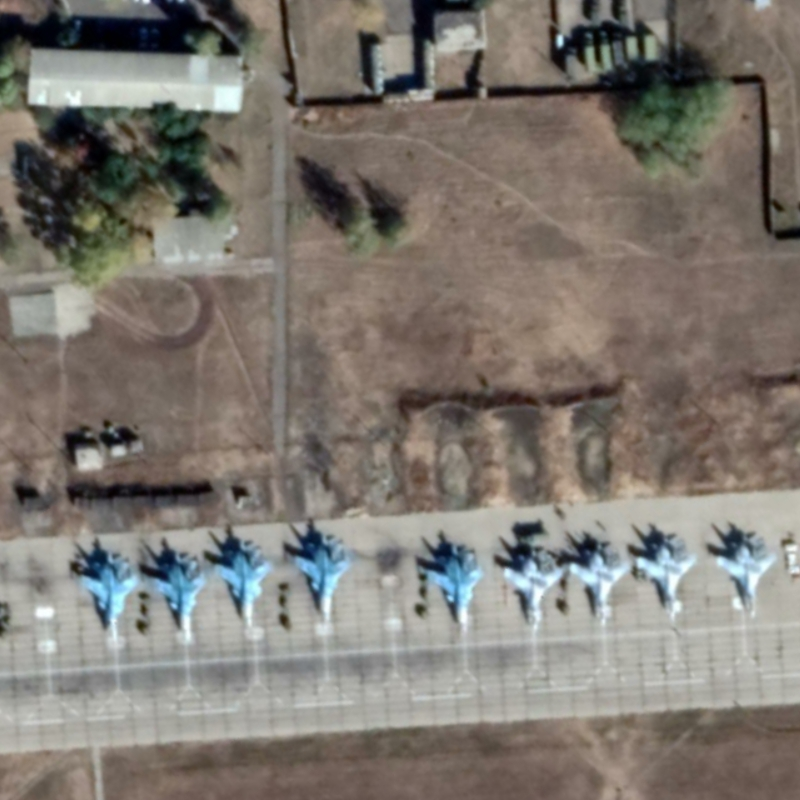A1: (707, 528, 779, 621), (631, 534, 702, 627), (501, 538, 568, 633), (569, 536, 636, 628)
A19: (413, 541, 490, 634), (73, 545, 141, 650), (146, 546, 209, 646), (212, 536, 275, 633), (289, 530, 350, 626)
